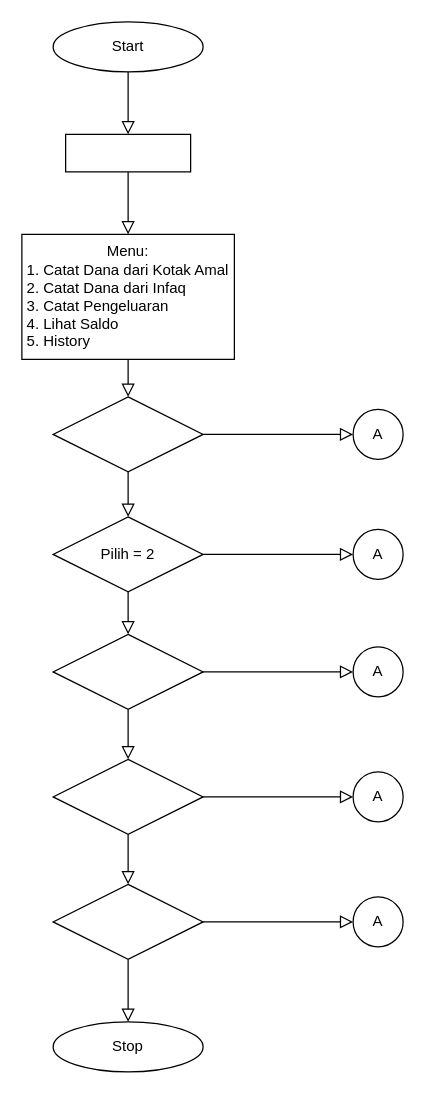
Some shapes in this 425 by 1094 pixel diagram are drawn without their labels. Each missing label, with the box of its shape:
Pilih = 1: (52, 396, 203, 472)
Pilih = 3: (52, 633, 203, 709)
Pilih = 4: (52, 758, 203, 834)
Pilih = 5: (52, 883, 203, 959)
Select Record: (64, 133, 191, 172)
